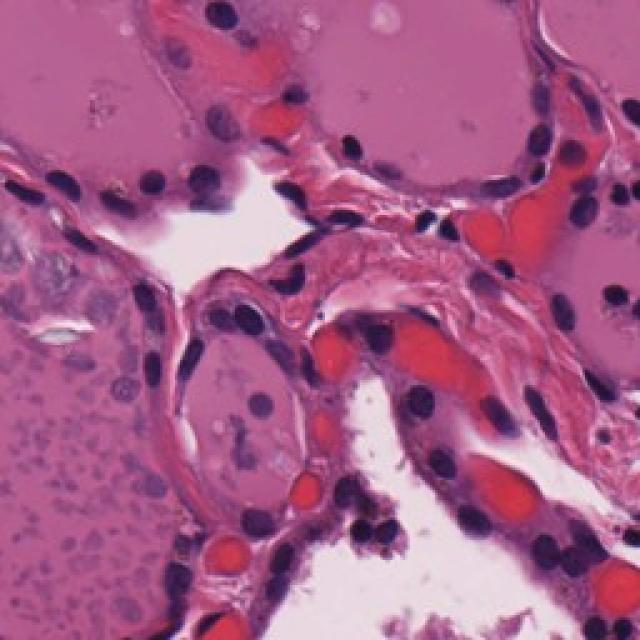normal: (424, 459, 520, 572), (522, 275, 620, 385), (226, 493, 310, 586), (214, 273, 288, 376), (166, 310, 250, 398), (376, 358, 468, 437), (395, 424, 479, 508), (167, 0, 273, 58), (38, 139, 102, 231), (170, 149, 237, 224), (512, 101, 569, 175)
